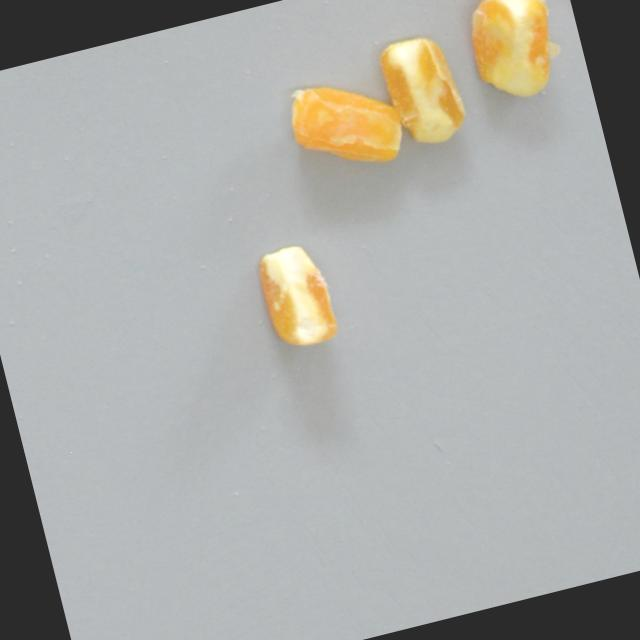pelicula: (281, 69, 409, 184), (377, 30, 472, 155), (461, 0, 568, 107), (252, 236, 342, 356)
